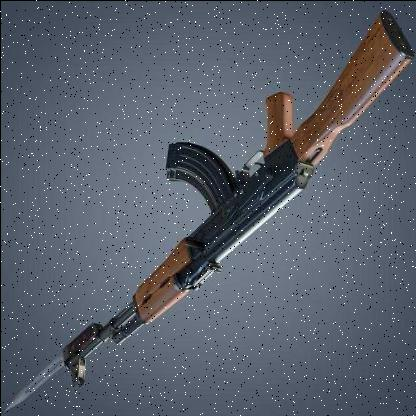rifle: (49, 0, 410, 394)
